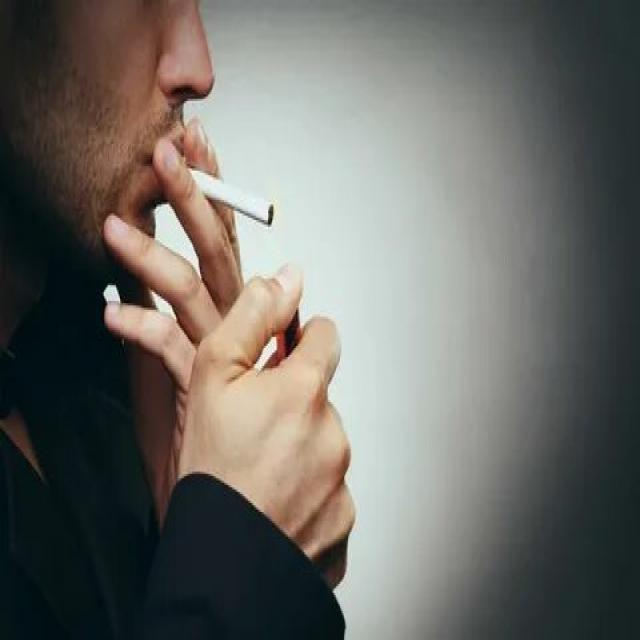smoke: (177, 148, 276, 236)
